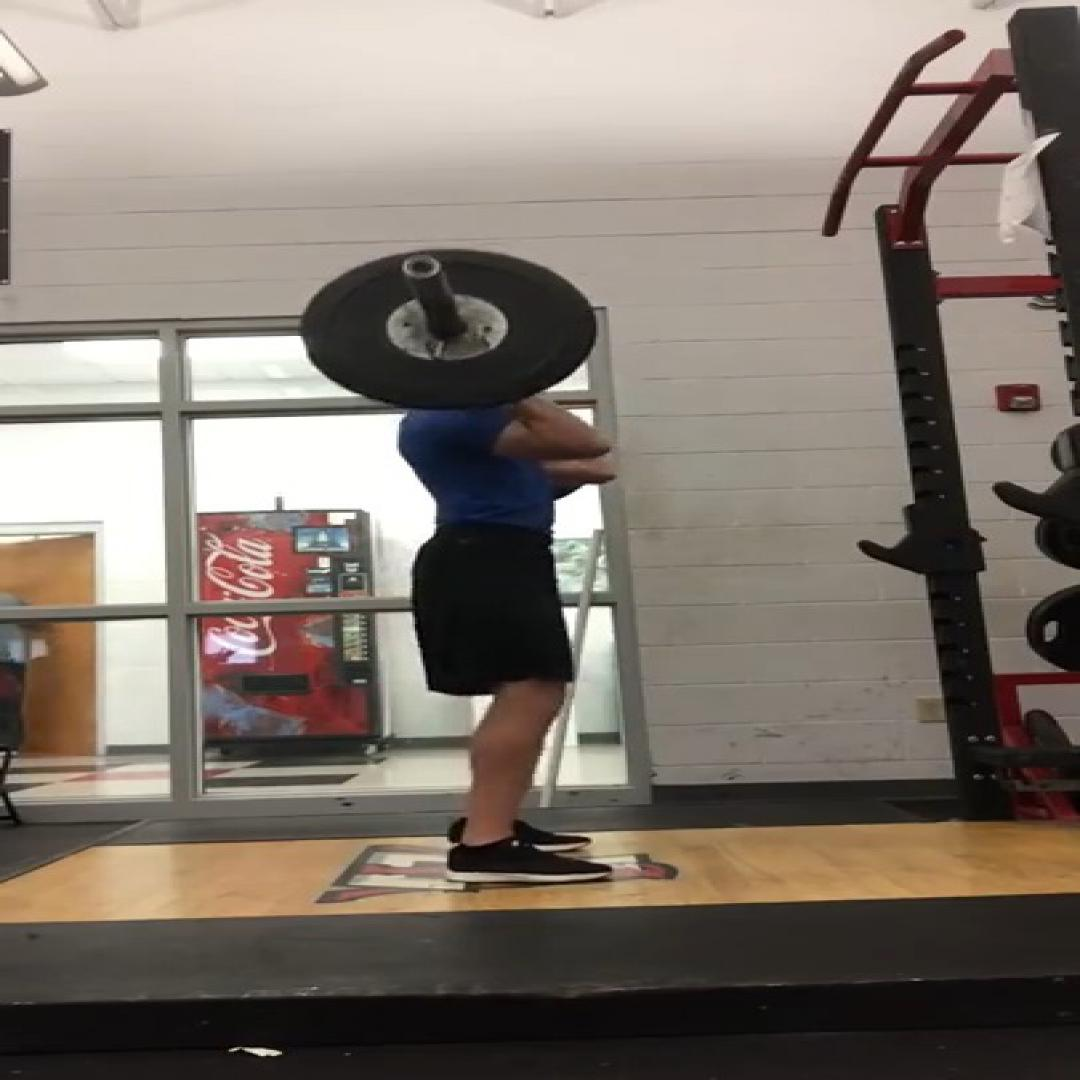Bar: (399, 253, 444, 279)
Barbell: (300, 247, 598, 410)
